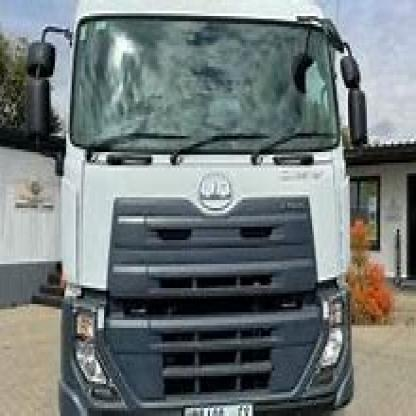dump_truck: (41, 0, 374, 413)
